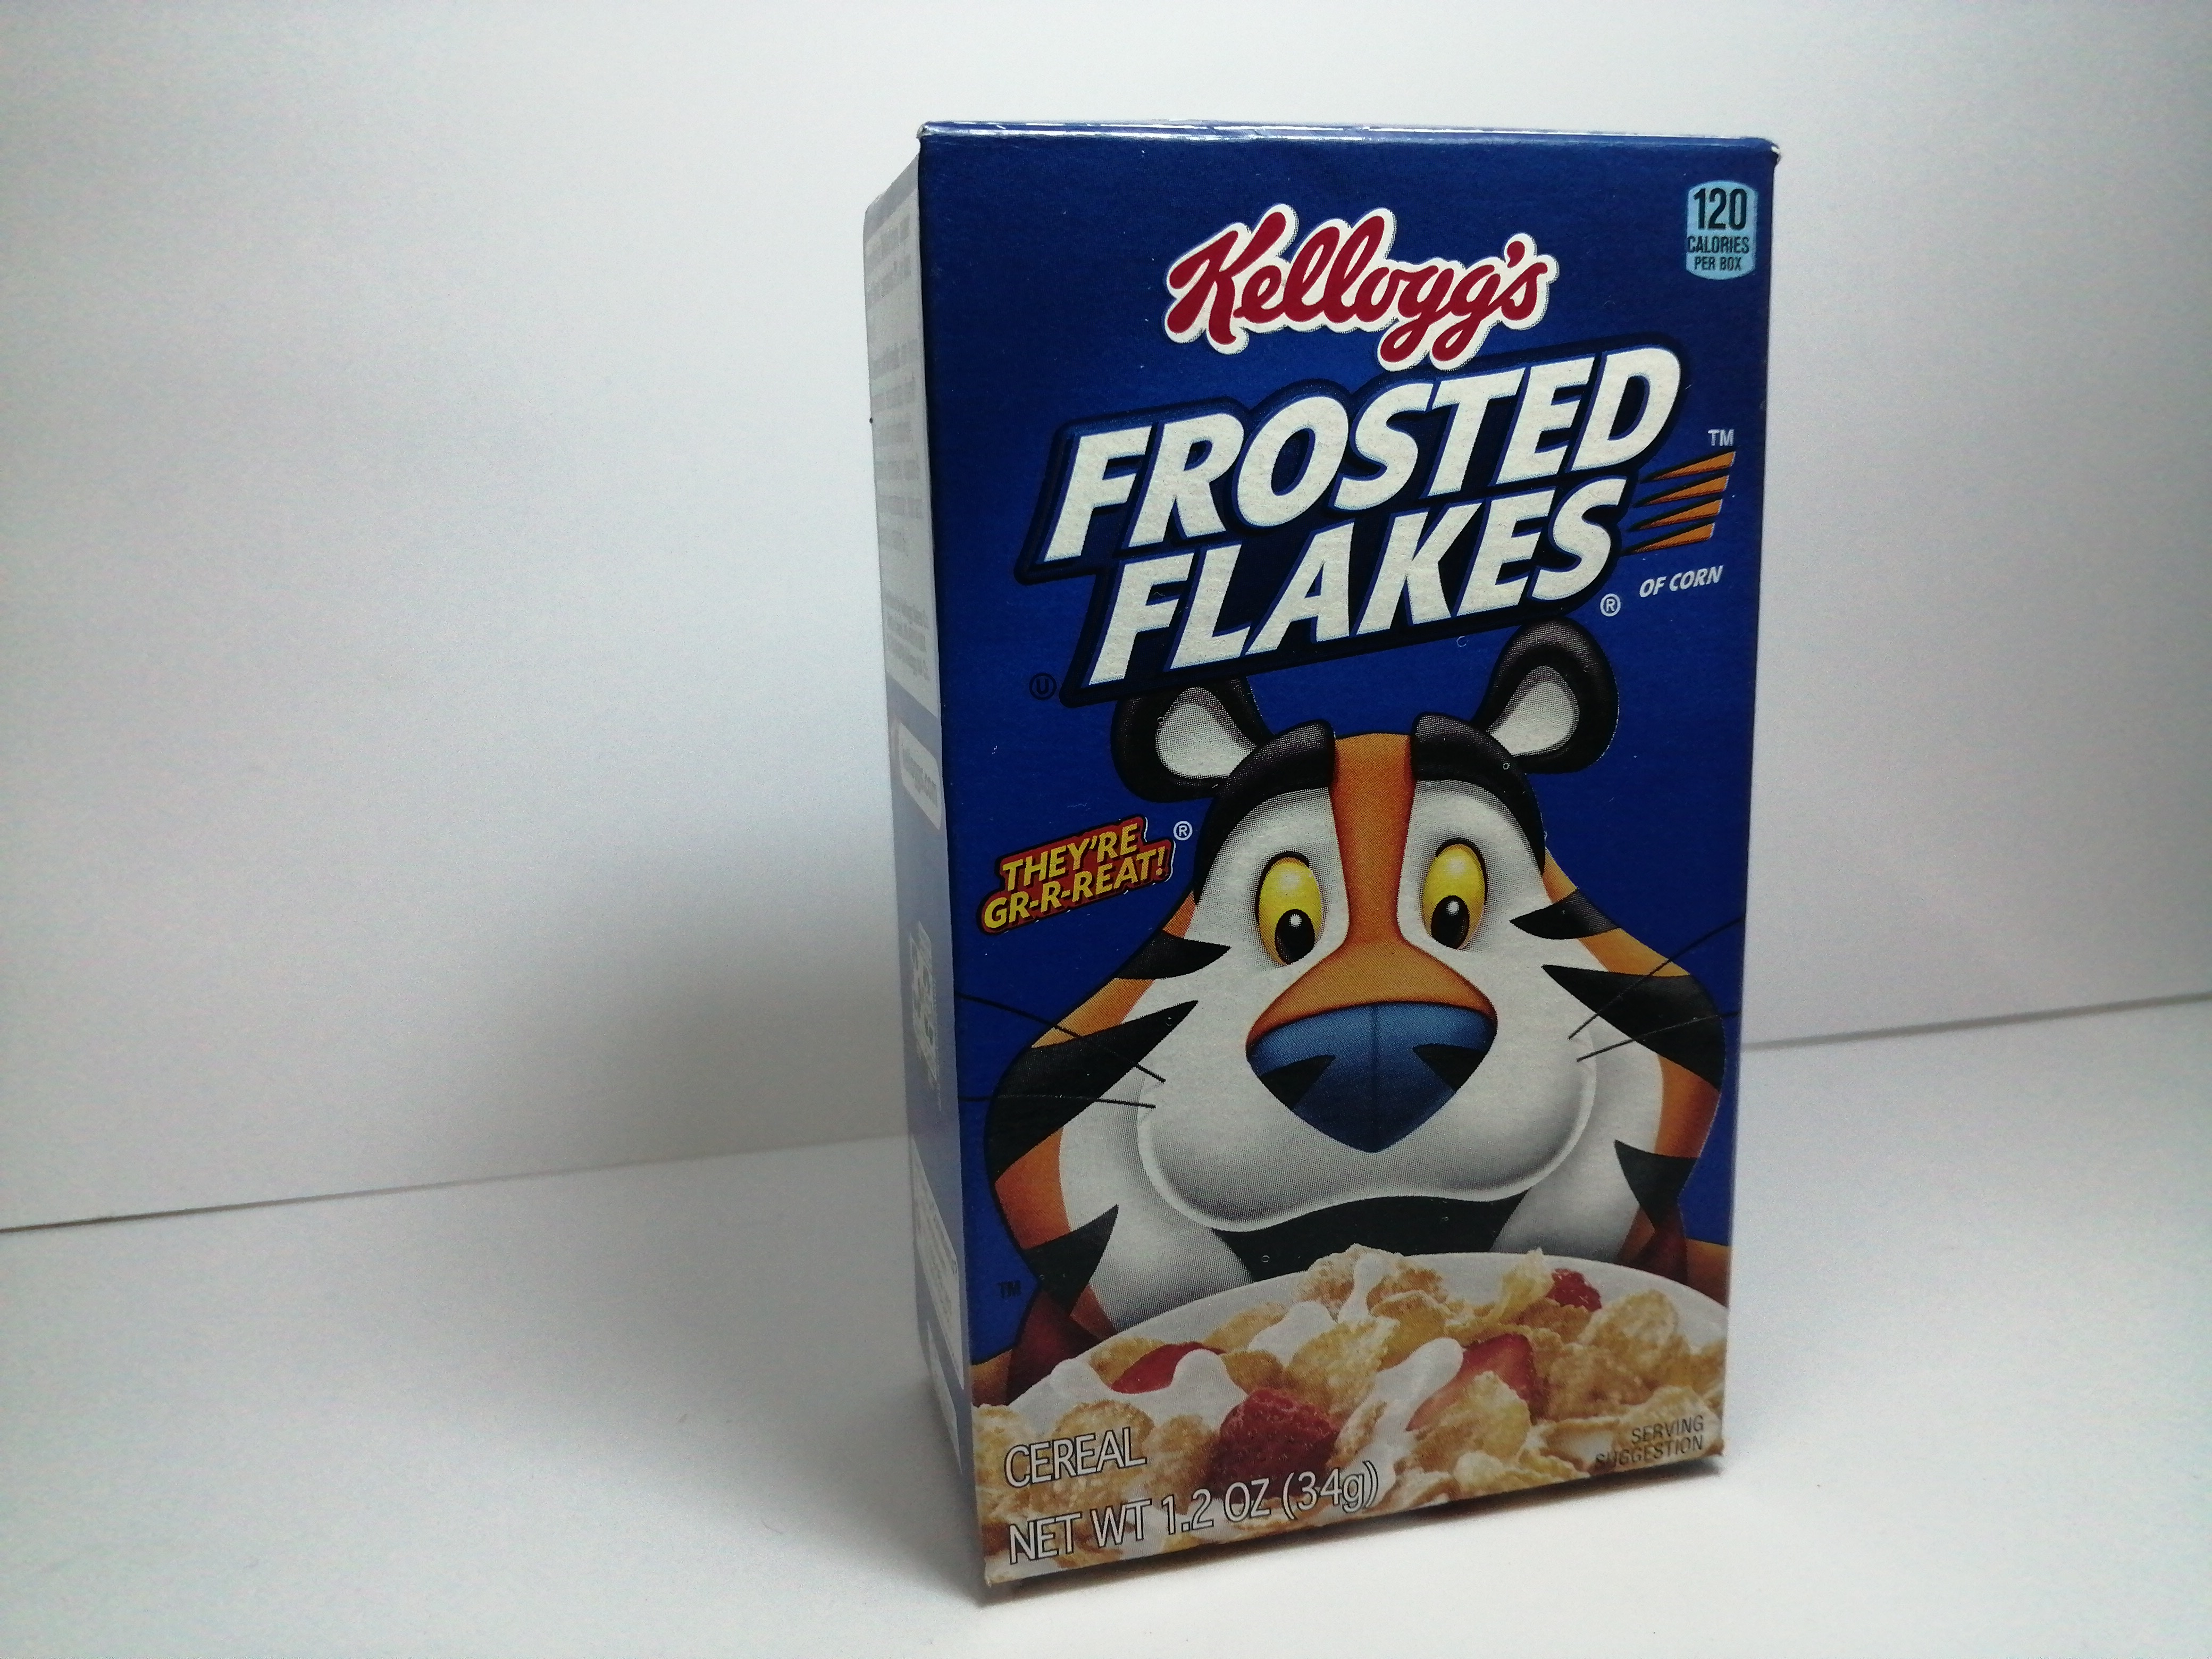cereal azucarado: (819, 89, 1832, 1614)
